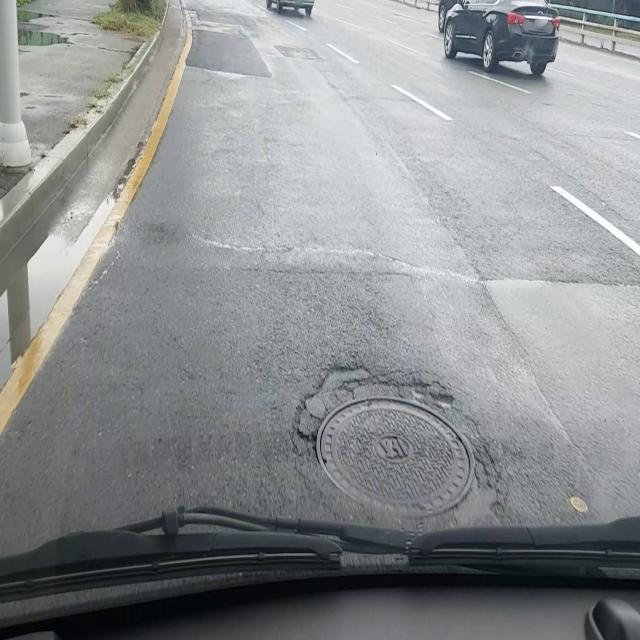pothole: (293, 362, 481, 520)
